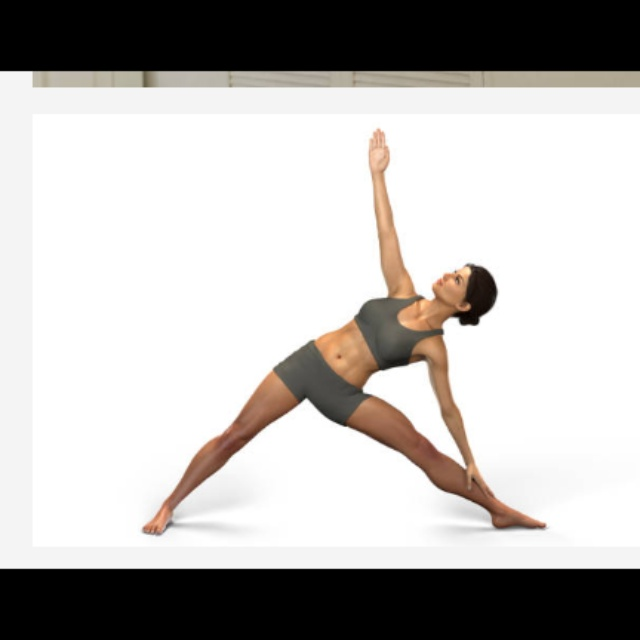Triangle_Pose: (133, 108, 553, 541)
